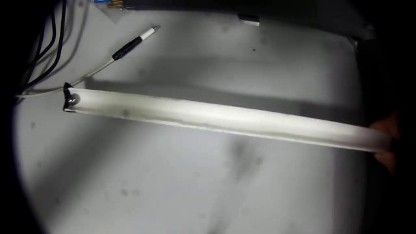gangzhu: (65, 89, 78, 107)
